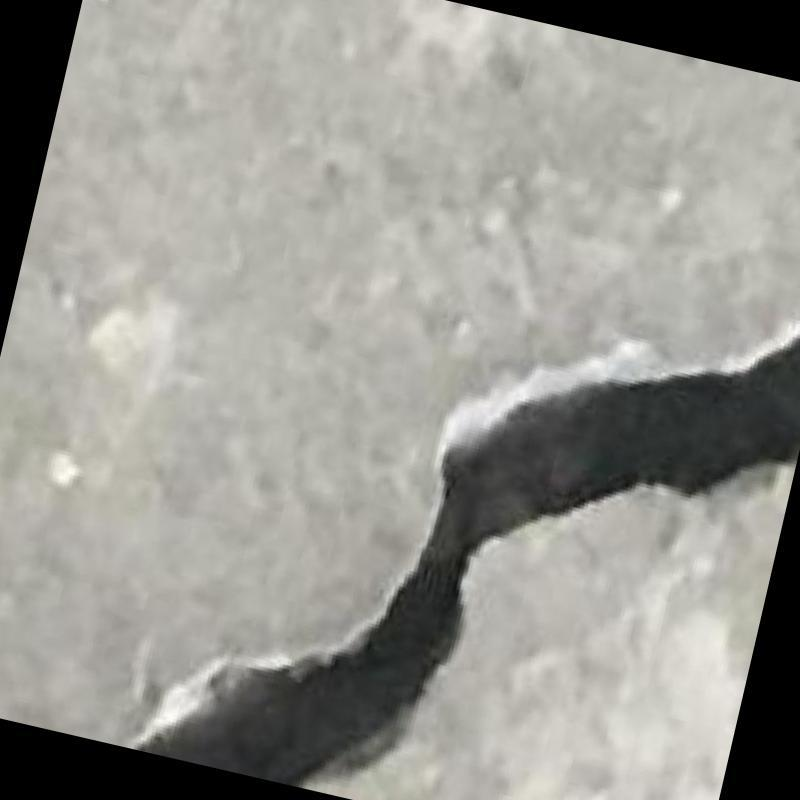pothole: (135, 334, 800, 786)
